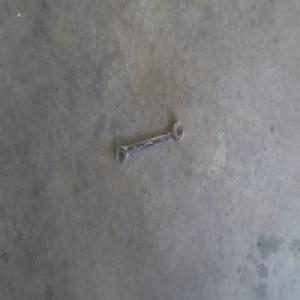Wrench: (113, 119, 187, 167)
